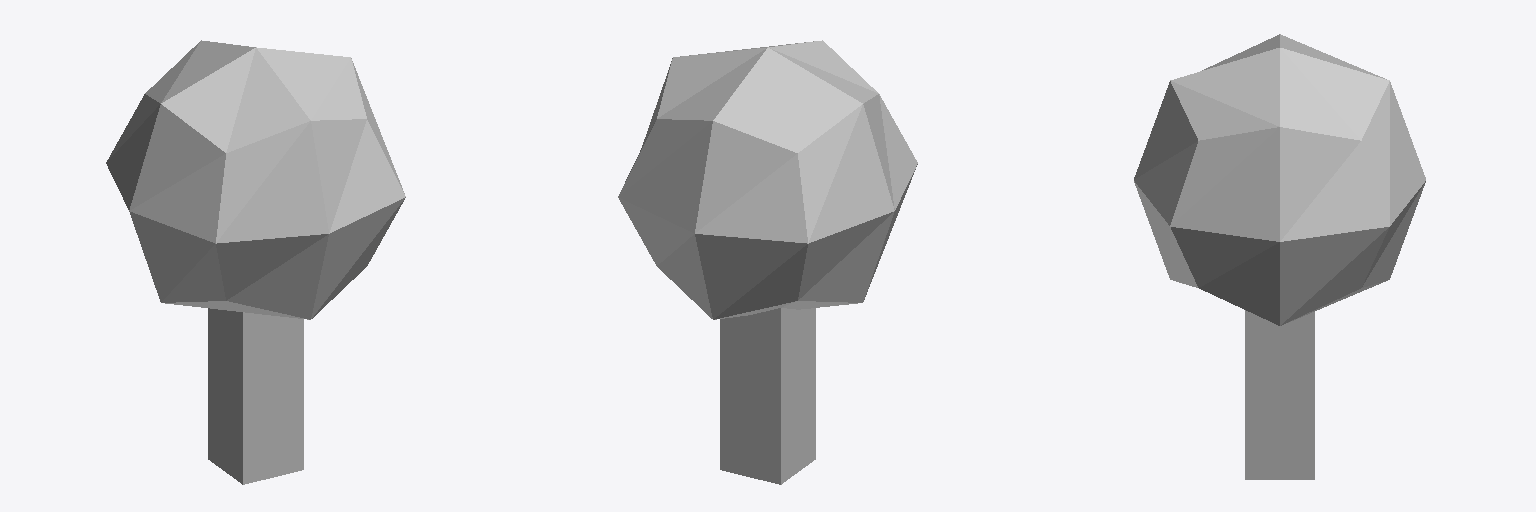
Rendered from TreeV4.obj.
The picture shows the model from 3 angles: view 1: azimuth 30°, elevation 25°; view 2: azimuth 150°, elevation 25°; view 3: azimuth 270°, elevation 25°; orthographic projection.
Parts seen in each view (by area): view 1: pCube4; view 2: pCube4; view 3: pCube4.
Boxes of the visible parts, <box> form: pCube4: <box>106,40,405,484</box>; pCube4: <box>618,40,917,484</box>; pCube4: <box>1134,34,1425,479</box>.
Bounding box in the file's own units: 4.15 × 6.53 × 4.15.